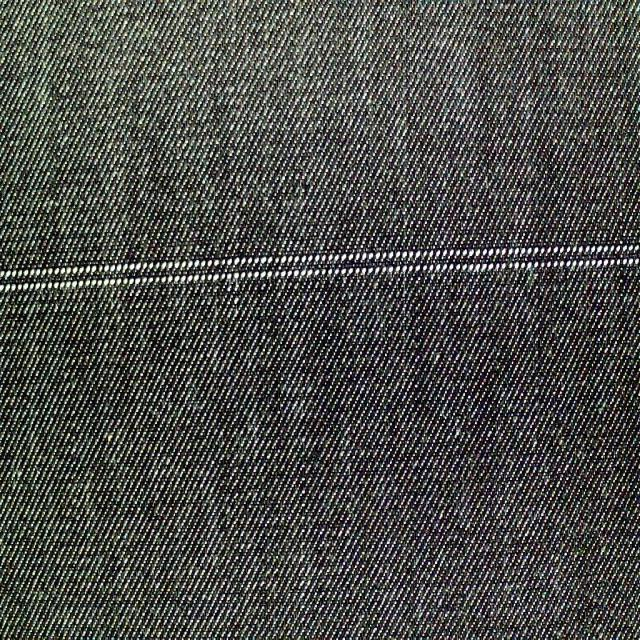Line: (0, 257, 640, 294), (0, 244, 640, 278)
